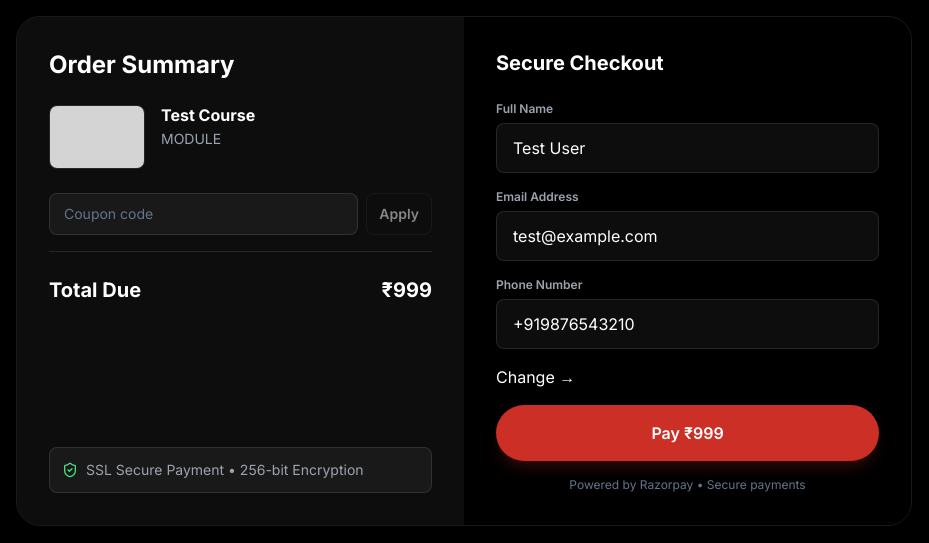
it: Checkout › shows discount breakdown and discounted pay button after valid coupon applied
Expected: the heading "Test Course" is shown, [161,105,255,125]
Type "SAVE20" into the field with placeholder "Coupon code" at [204, 214], box [49,193,358,235]
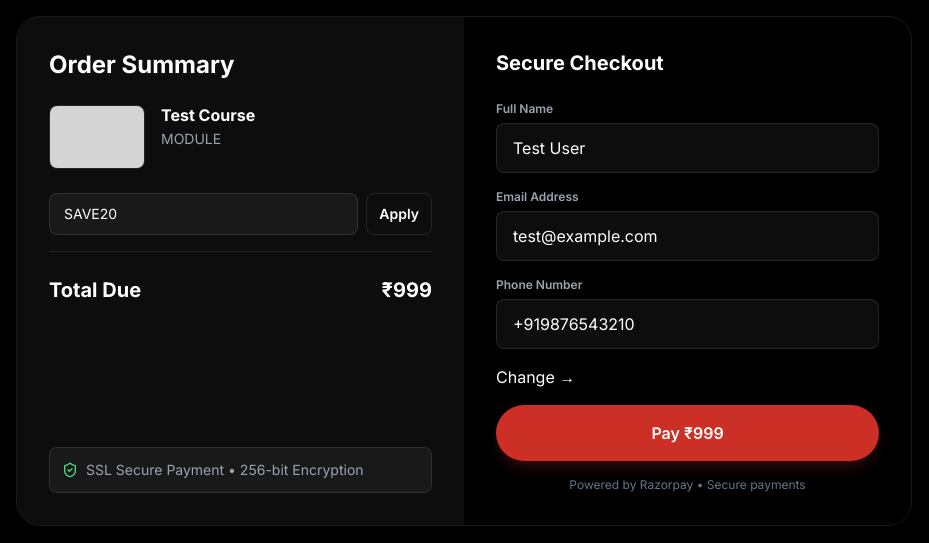
Click the button "Apply" at [399, 214], box [366,193,432,235]
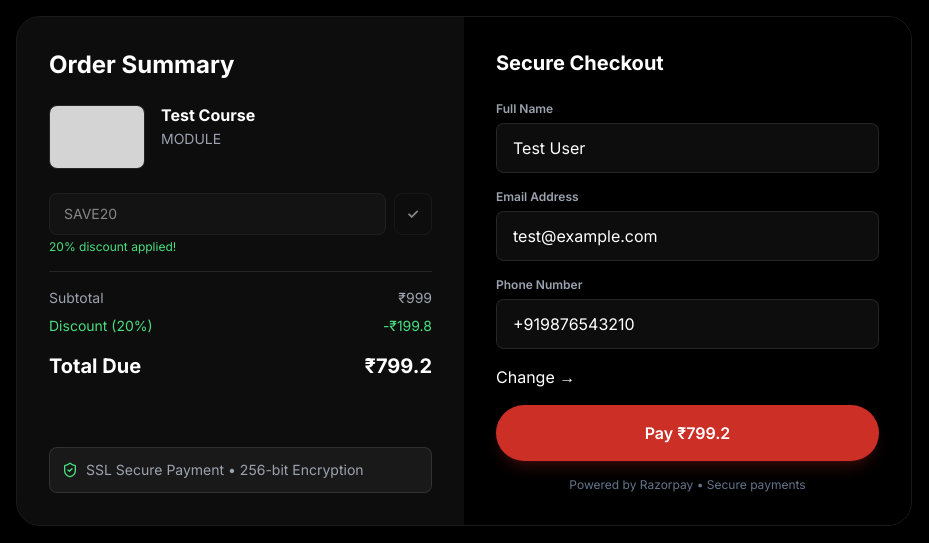
Expected: the button "Pay ₹799.2" is shown, [496,405,879,461]
Now the text "20% discount applied!" is shown, box [49,239,176,254]
